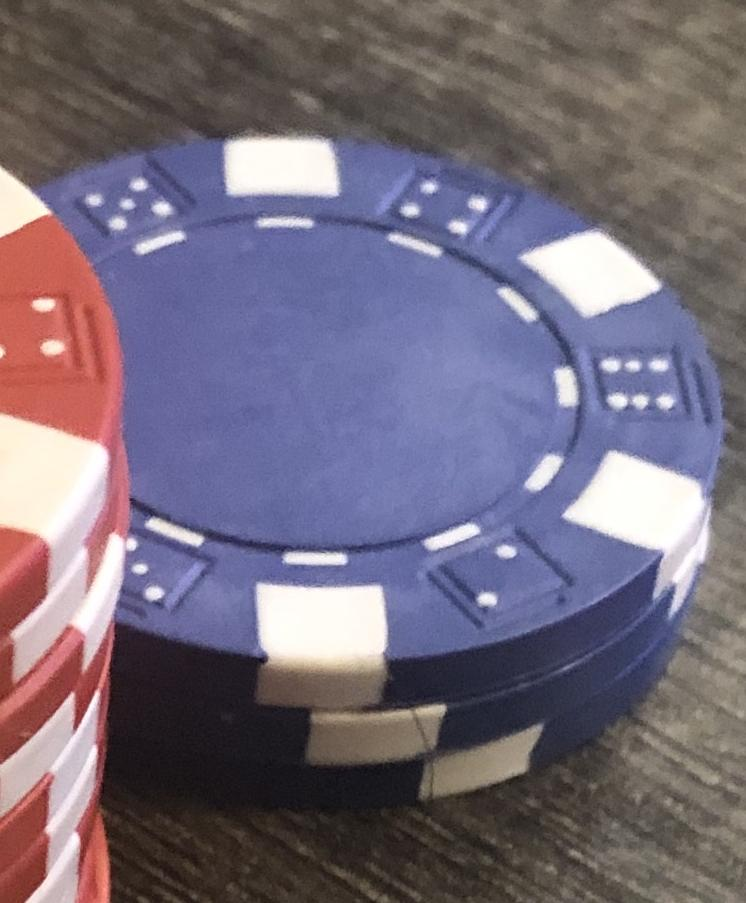Chip: (1, 1, 746, 903)
